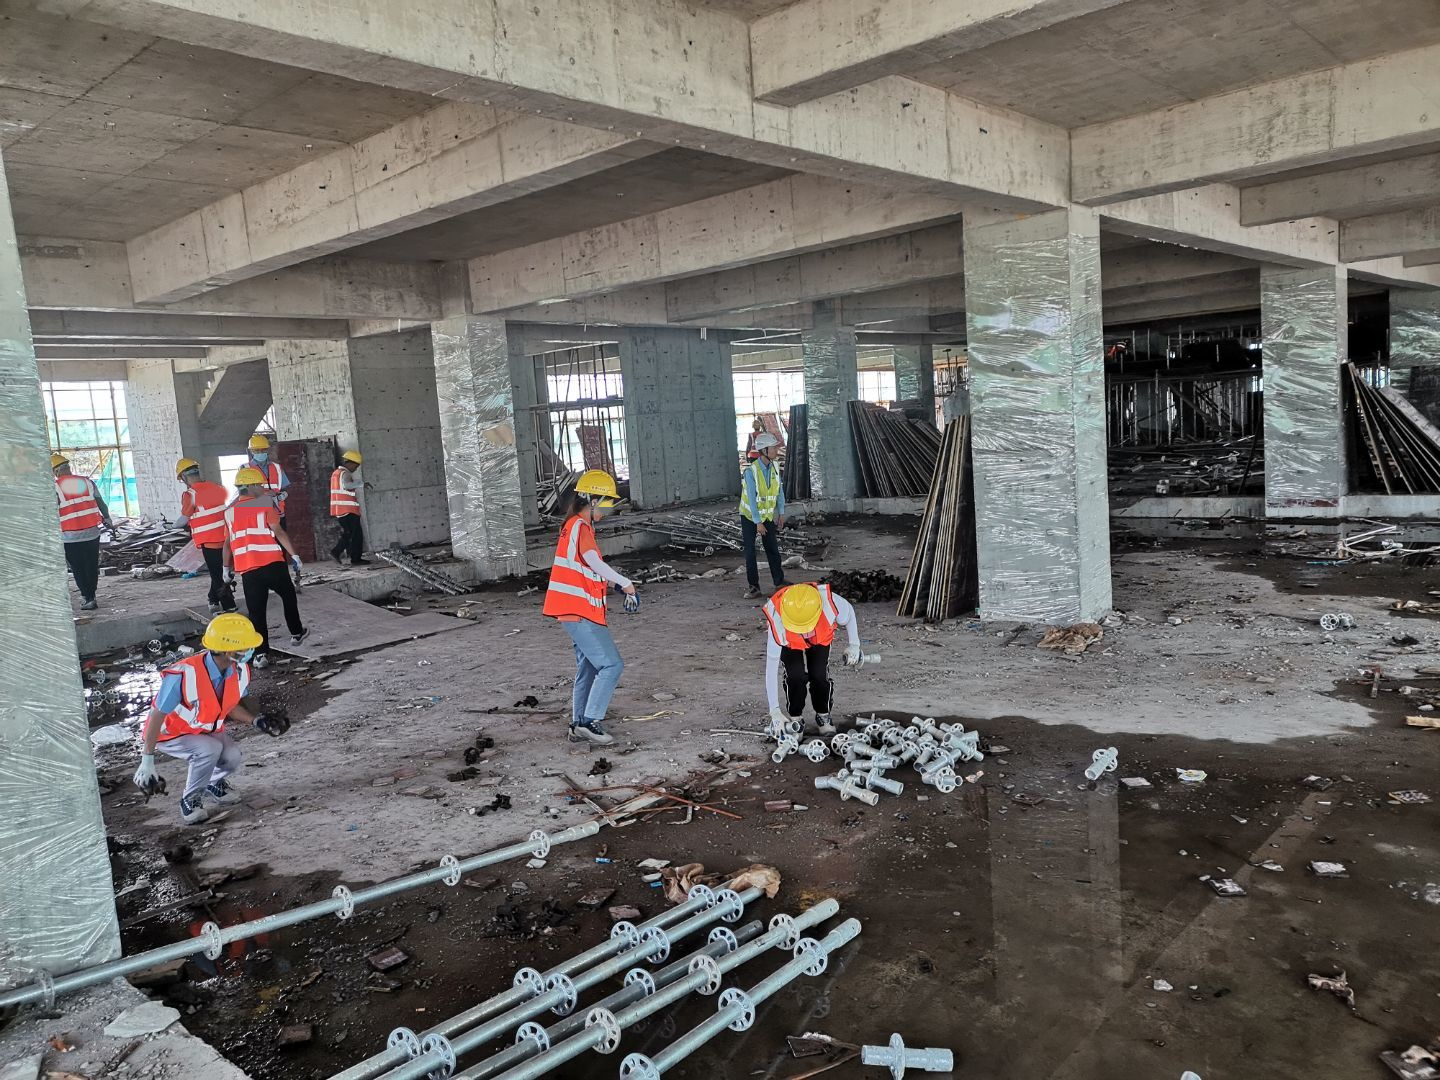helmet: (195, 616, 266, 655), (775, 584, 822, 631), (573, 471, 621, 505), (233, 465, 263, 489), (754, 431, 779, 456), (174, 455, 200, 477), (57, 461, 75, 481), (250, 438, 270, 455), (344, 456, 366, 471)
person: (116, 611, 281, 805), (557, 467, 634, 746), (758, 578, 865, 736), (233, 467, 304, 644), (735, 432, 796, 594), (165, 458, 233, 593), (56, 461, 118, 596), (326, 454, 367, 565), (244, 436, 290, 506)
vest: (147, 649, 242, 763), (552, 518, 613, 620), (766, 590, 832, 656), (186, 482, 240, 542), (236, 504, 283, 567), (741, 462, 779, 534), (55, 485, 101, 536), (329, 465, 360, 512)
